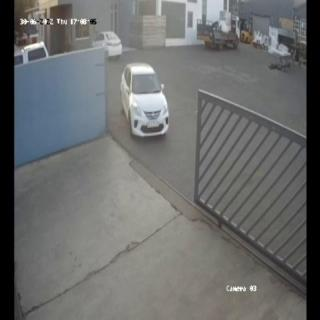car: (119, 62, 169, 138), (197, 13, 240, 50), (90, 31, 122, 58)
